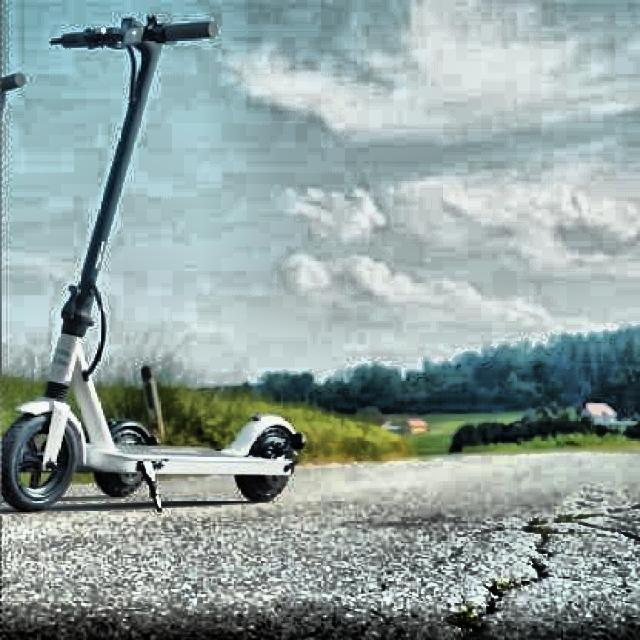bike: (0, 11, 309, 513)
